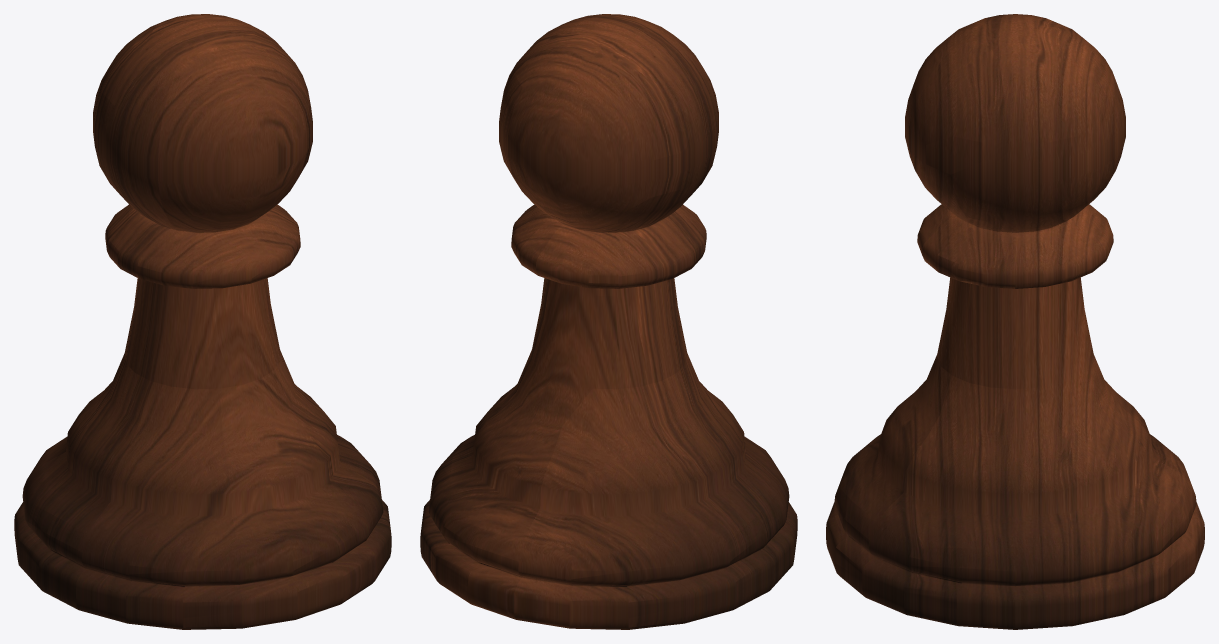
The model's file is preto-peao.obj.
3 views of the same model, side by side, from view 1: azimuth 30°, elevation 25°; view 2: azimuth 150°, elevation 25°; view 3: azimuth 270°, elevation 25° (orthographic).
Visible parts, largest first — view 1: PEDONE12; view 2: PEDONE12; view 3: PEDONE12.
Part boxes in pixels (x1,y1,x2,y2): PEDONE12: (14, 14, 391, 629); PEDONE12: (420, 14, 797, 629); PEDONE12: (826, 14, 1204, 629).
Size of the model in its own units: 136 by 210 by 136.
1 material, 1 textured.
